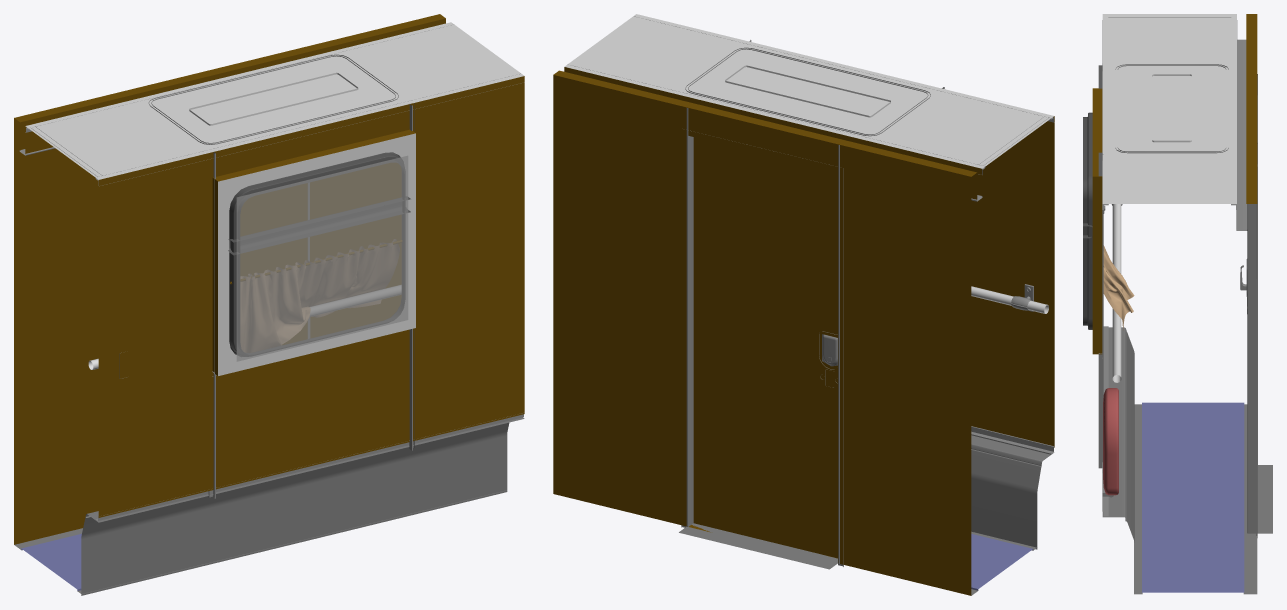
Rendered from SM_train_3.fbx.
3 renders of one model, left to right at view 1: azimuth 30°, elevation 25°; view 2: azimuth 150°, elevation 25°; view 3: azimuth 270°, elevation 25°, orthographic. The views are drawn at different scales.
Visible parts, largest first — view 1: SM_train_main, SM_train_curtains, SM_train_door, SM_train_light; view 2: SM_train_main, SM_train_door, SM_train_light; view 3: SM_train_main, SM_train_door, SM_train_curtains, SM_train_light.
Boxes of the visible parts, x1,y1,x2,y2 form: SM_train_main: [14, 14, 524, 595]; SM_train_curtains: [240, 239, 399, 352]; SM_train_door: [240, 183, 308, 344]; SM_train_light: [148, 54, 398, 144]; SM_train_main: [553, 14, 1054, 595]; SM_train_door: [686, 108, 839, 563]; SM_train_light: [685, 47, 930, 136]; SM_train_main: [1083, 14, 1272, 594]; SM_train_door: [1240, 74, 1257, 533]; SM_train_curtains: [1103, 245, 1134, 330]; SM_train_light: [1115, 64, 1228, 153].
Size of the model in its own units: 237 by 229 by 100.
